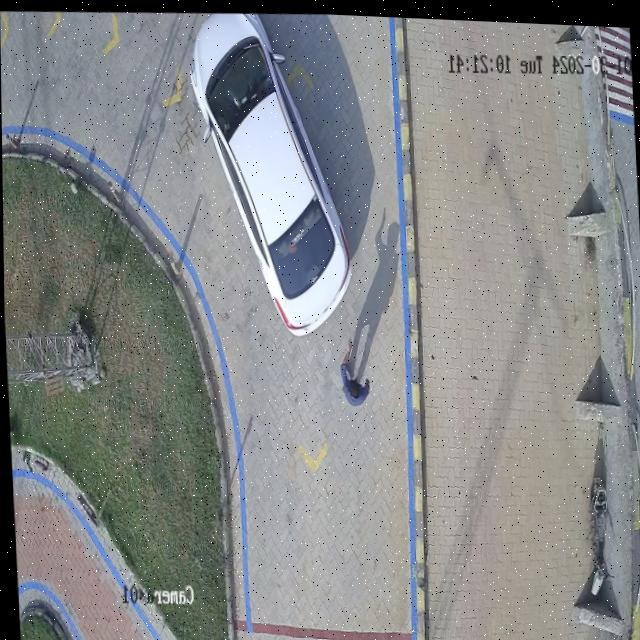car: (189, 11, 350, 333)
